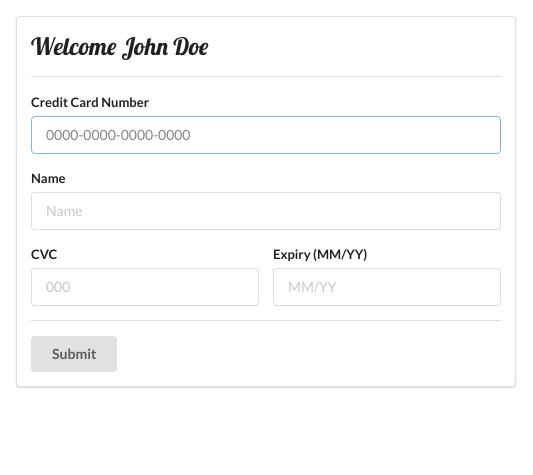
Test case: fill out valid credit card infomation
# Enter credit card number
Type "4716660449857612" into the field with test id "credit-card-number-text-input". click: (266, 135)
box: [31,116,501,154]
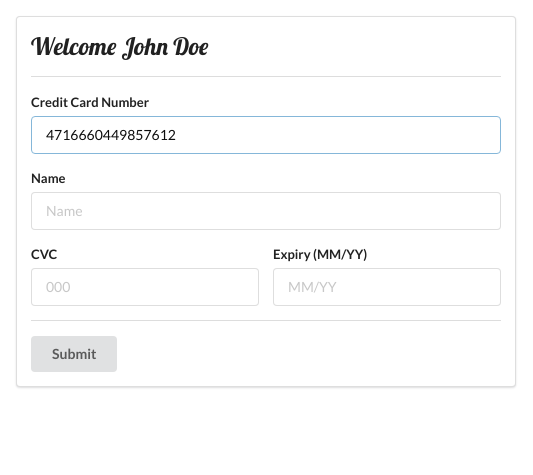
# Enter card holder name
Type "John Doe" into the field with test id "credit-card-holder-name-text-input". click: (266, 211)
box: [31,192,501,230]
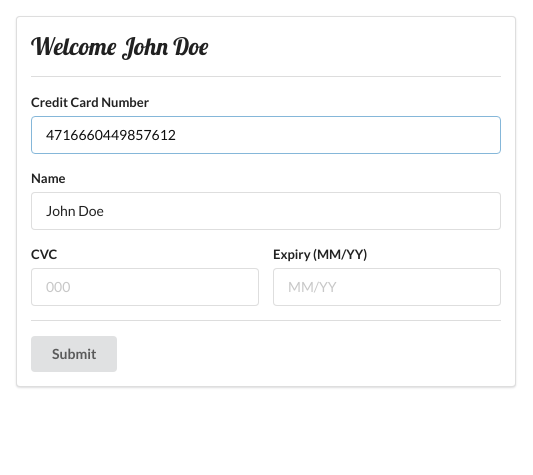
# Enter cvc number
Type "123" into the field with test id "credit-card-cvc-text-input". click: (145, 287)
box: [31,268,259,306]
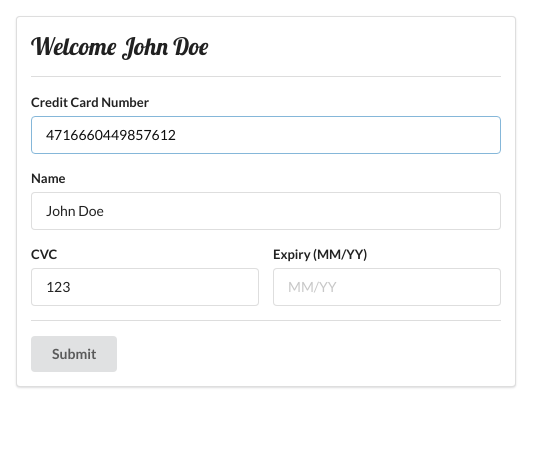
# Enter expiry
Type "12/23" into the field with test id "credit-card-expiry-date-text-input". click: (387, 287)
box: [273,268,501,306]
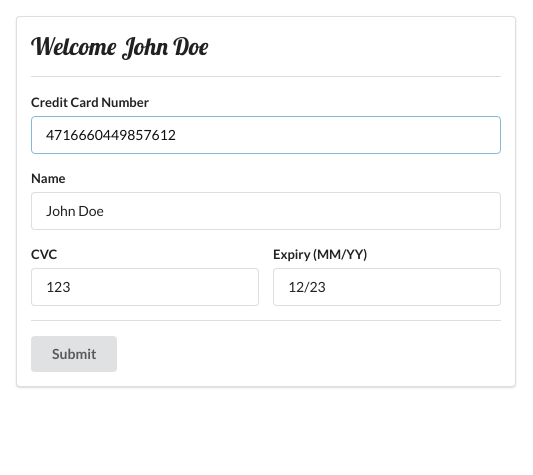
# Click submit
Click the button "Submit". click: click(74, 354)
box: [31,336,118,372]
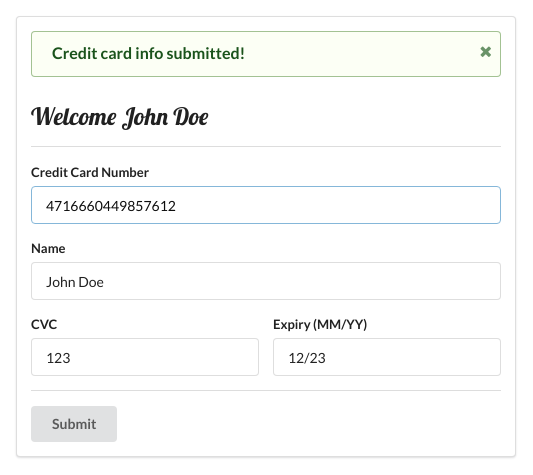
Check: the text "Credit card info submitted!" is shown, box [52,43,245,62]
